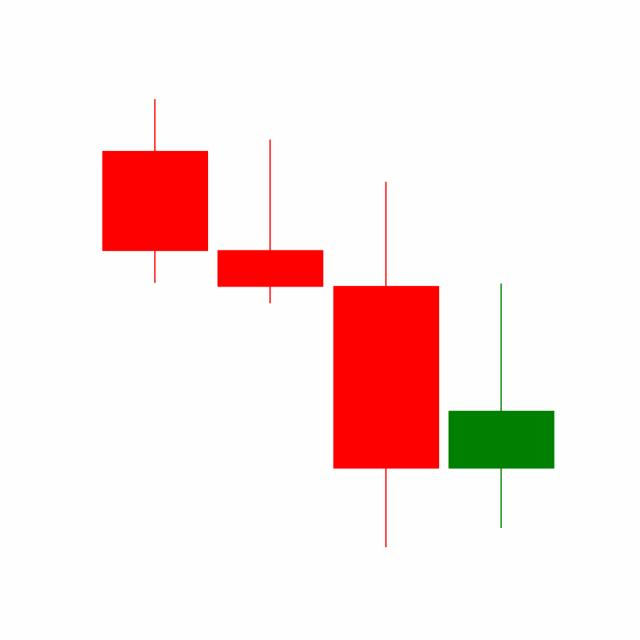Spinning Top: (443, 280, 559, 532)
